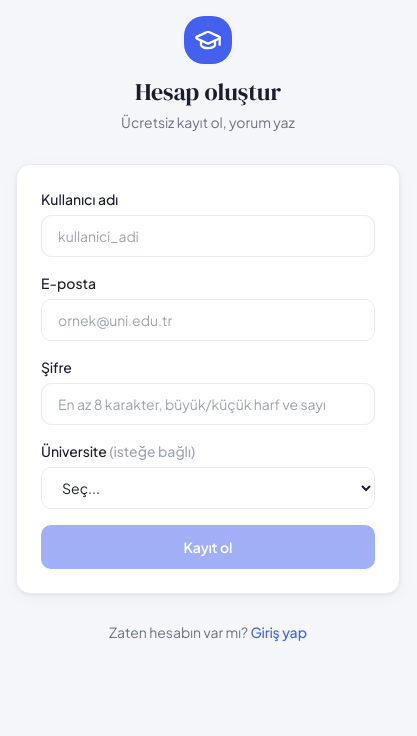
Test: RegisterPage › disables submit until password is strong and email is valid
Expected: the button "Kayıt ol" is disabled, x1=41 y1=525 x2=375 y2=569
In the field with placeholder "kullanici_adi": {"x": 208, "y": 236} x1=41 y1=215 x2=375 y2=257, type "testuser"
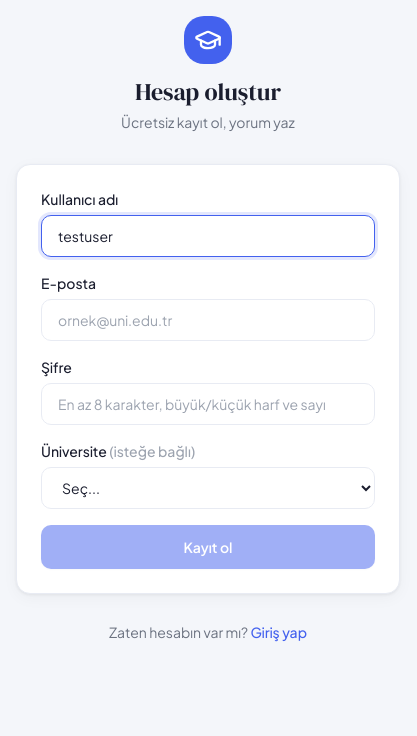
In the field with placeholder "ornek@uni.edu.tr": {"x": 208, "y": 320} x1=41 y1=299 x2=375 y2=341, type "user@gmail.com"
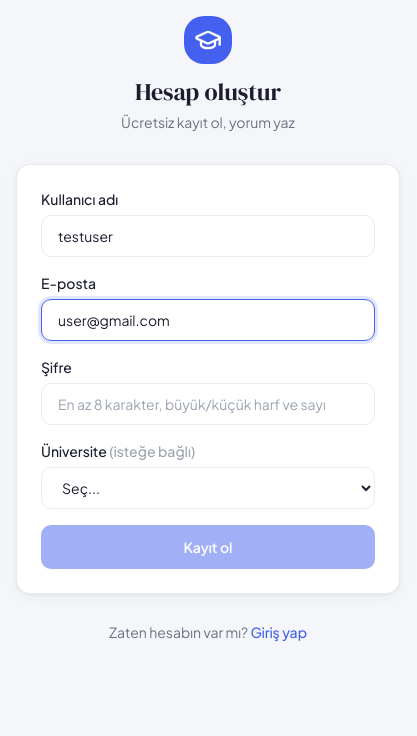
In the password field with placeholder "En az 8 karakter, büyük/küçük harf ve sayı": {"x": 208, "y": 404} x1=41 y1=383 x2=375 y2=425, type "Password1"
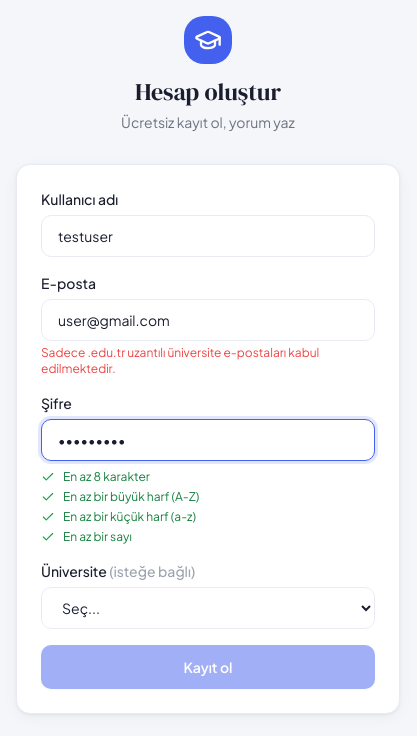
Expected: the button "Kayıt ol" is disabled, x1=41 y1=645 x2=375 y2=689
Replace the text in the 2nd field with placeholder "ornek@uni.edu.tr" with "student@uni.edu.tr": {"x": 208, "y": 320} x1=41 y1=299 x2=375 y2=341
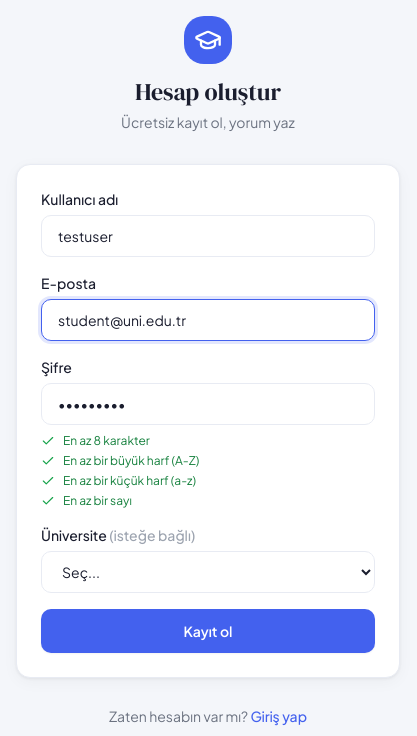
Result: the button "Kayıt ol" is enabled at x1=41 y1=609 x2=375 y2=653
